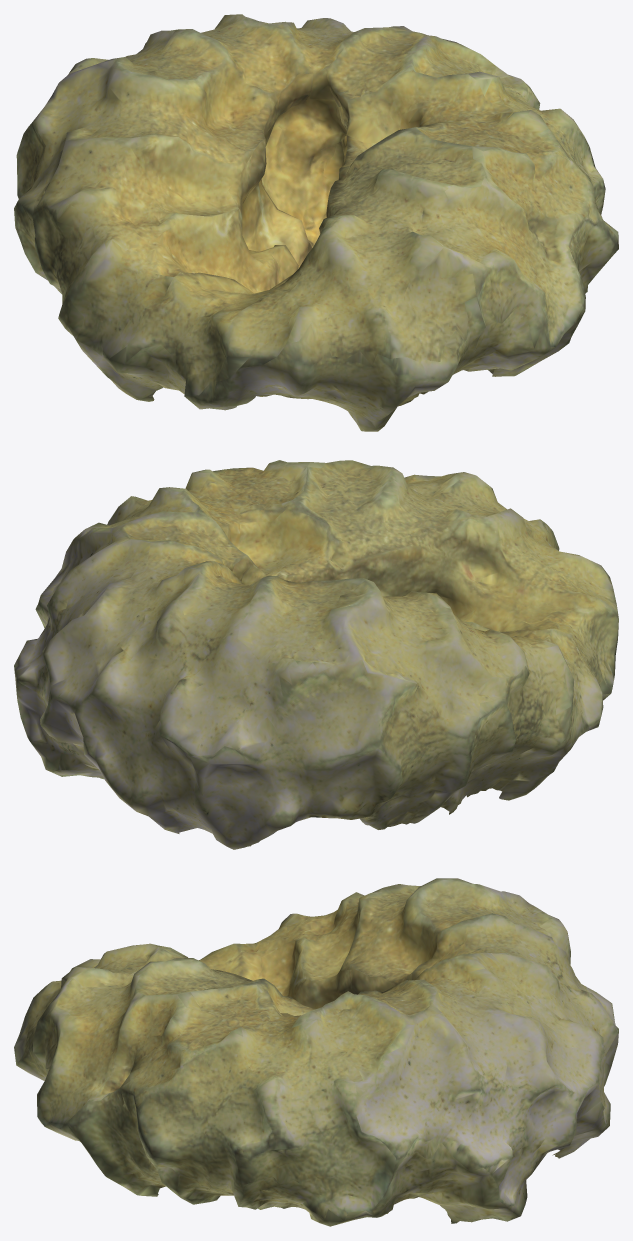
File: coral_138.15_FBX_still.fbx
3 renders of one model, top to bottom at view 1: azimuth 30°, elevation 25°; view 2: azimuth 150°, elevation 25°; view 3: azimuth 270°, elevation 25°, orthographic. The views are drawn at different scales.
Visible parts, largest first — view 1: coral_138.15_gameasset; view 2: coral_138.15_gameasset; view 3: coral_138.15_gameasset.
Boxes of the visible parts, bbox=[...] form: coral_138.15_gameasset: bbox=[14, 14, 618, 431]; coral_138.15_gameasset: bbox=[14, 460, 618, 849]; coral_138.15_gameasset: bbox=[14, 878, 618, 1226].
Bounding box in the file's own units: 7.44 × 3.65 × 8.4.
Materials: 1 (1 with a texture image).
